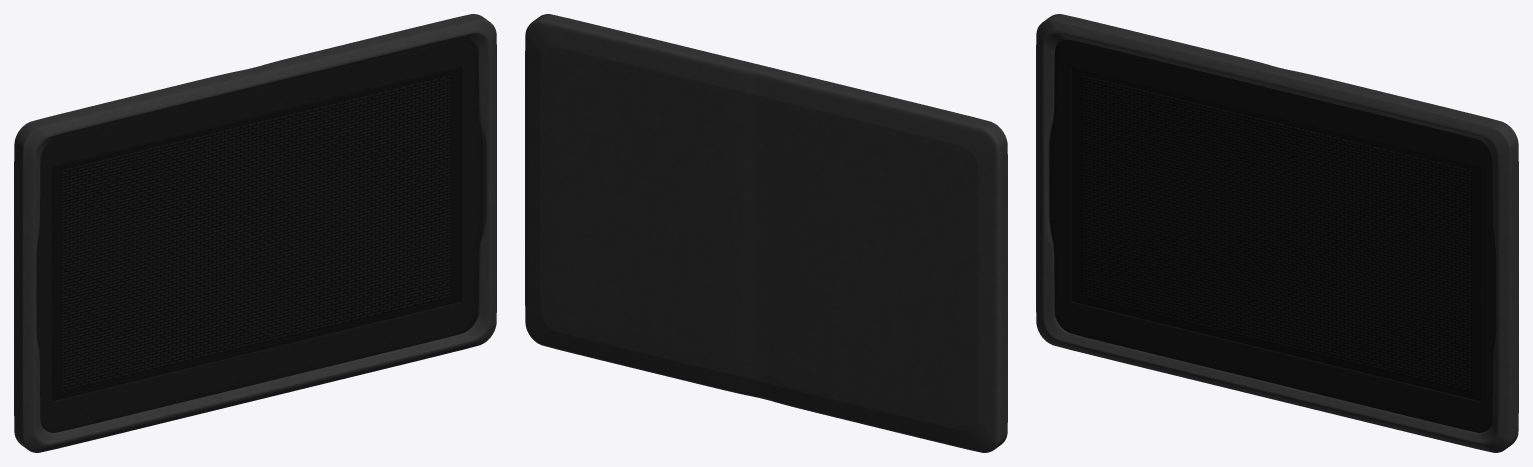
The model's file is pmut_2.glb.
3 renders of one model, left to right at view 1: azimuth 30°, elevation 25°; view 2: azimuth 150°, elevation 25°; view 3: azimuth 330°, elevation 25°, orthographic.
Visible parts, largest first — view 1: glass, pmuts, rim, casing, shell; view 2: casing; view 3: glass, pmuts, rim, casing, shell.
Boxes of the visible parts, left/top/right/bottom form: glass: left=36, top=39, right=483, bottom=432; pmuts: left=62, top=76, right=449, bottom=391; rim: left=37, top=40, right=482, bottom=432; casing: left=14, top=14, right=496, bottom=452; shell: left=52, top=67, right=460, bottom=400; casing: left=525, top=14, right=1007, bottom=452; glass: left=1049, top=39, right=1496, bottom=432; pmuts: left=1083, top=76, right=1470, bottom=391; rim: left=1050, top=40, right=1495, bottom=432; casing: left=1036, top=14, right=1518, bottom=452; shell: left=1072, top=67, right=1480, bottom=400.
Bounding box in the file's own units: 0.3374 × 0.2216 × 0.0175.
Materials: 3 (2 with a texture image).
